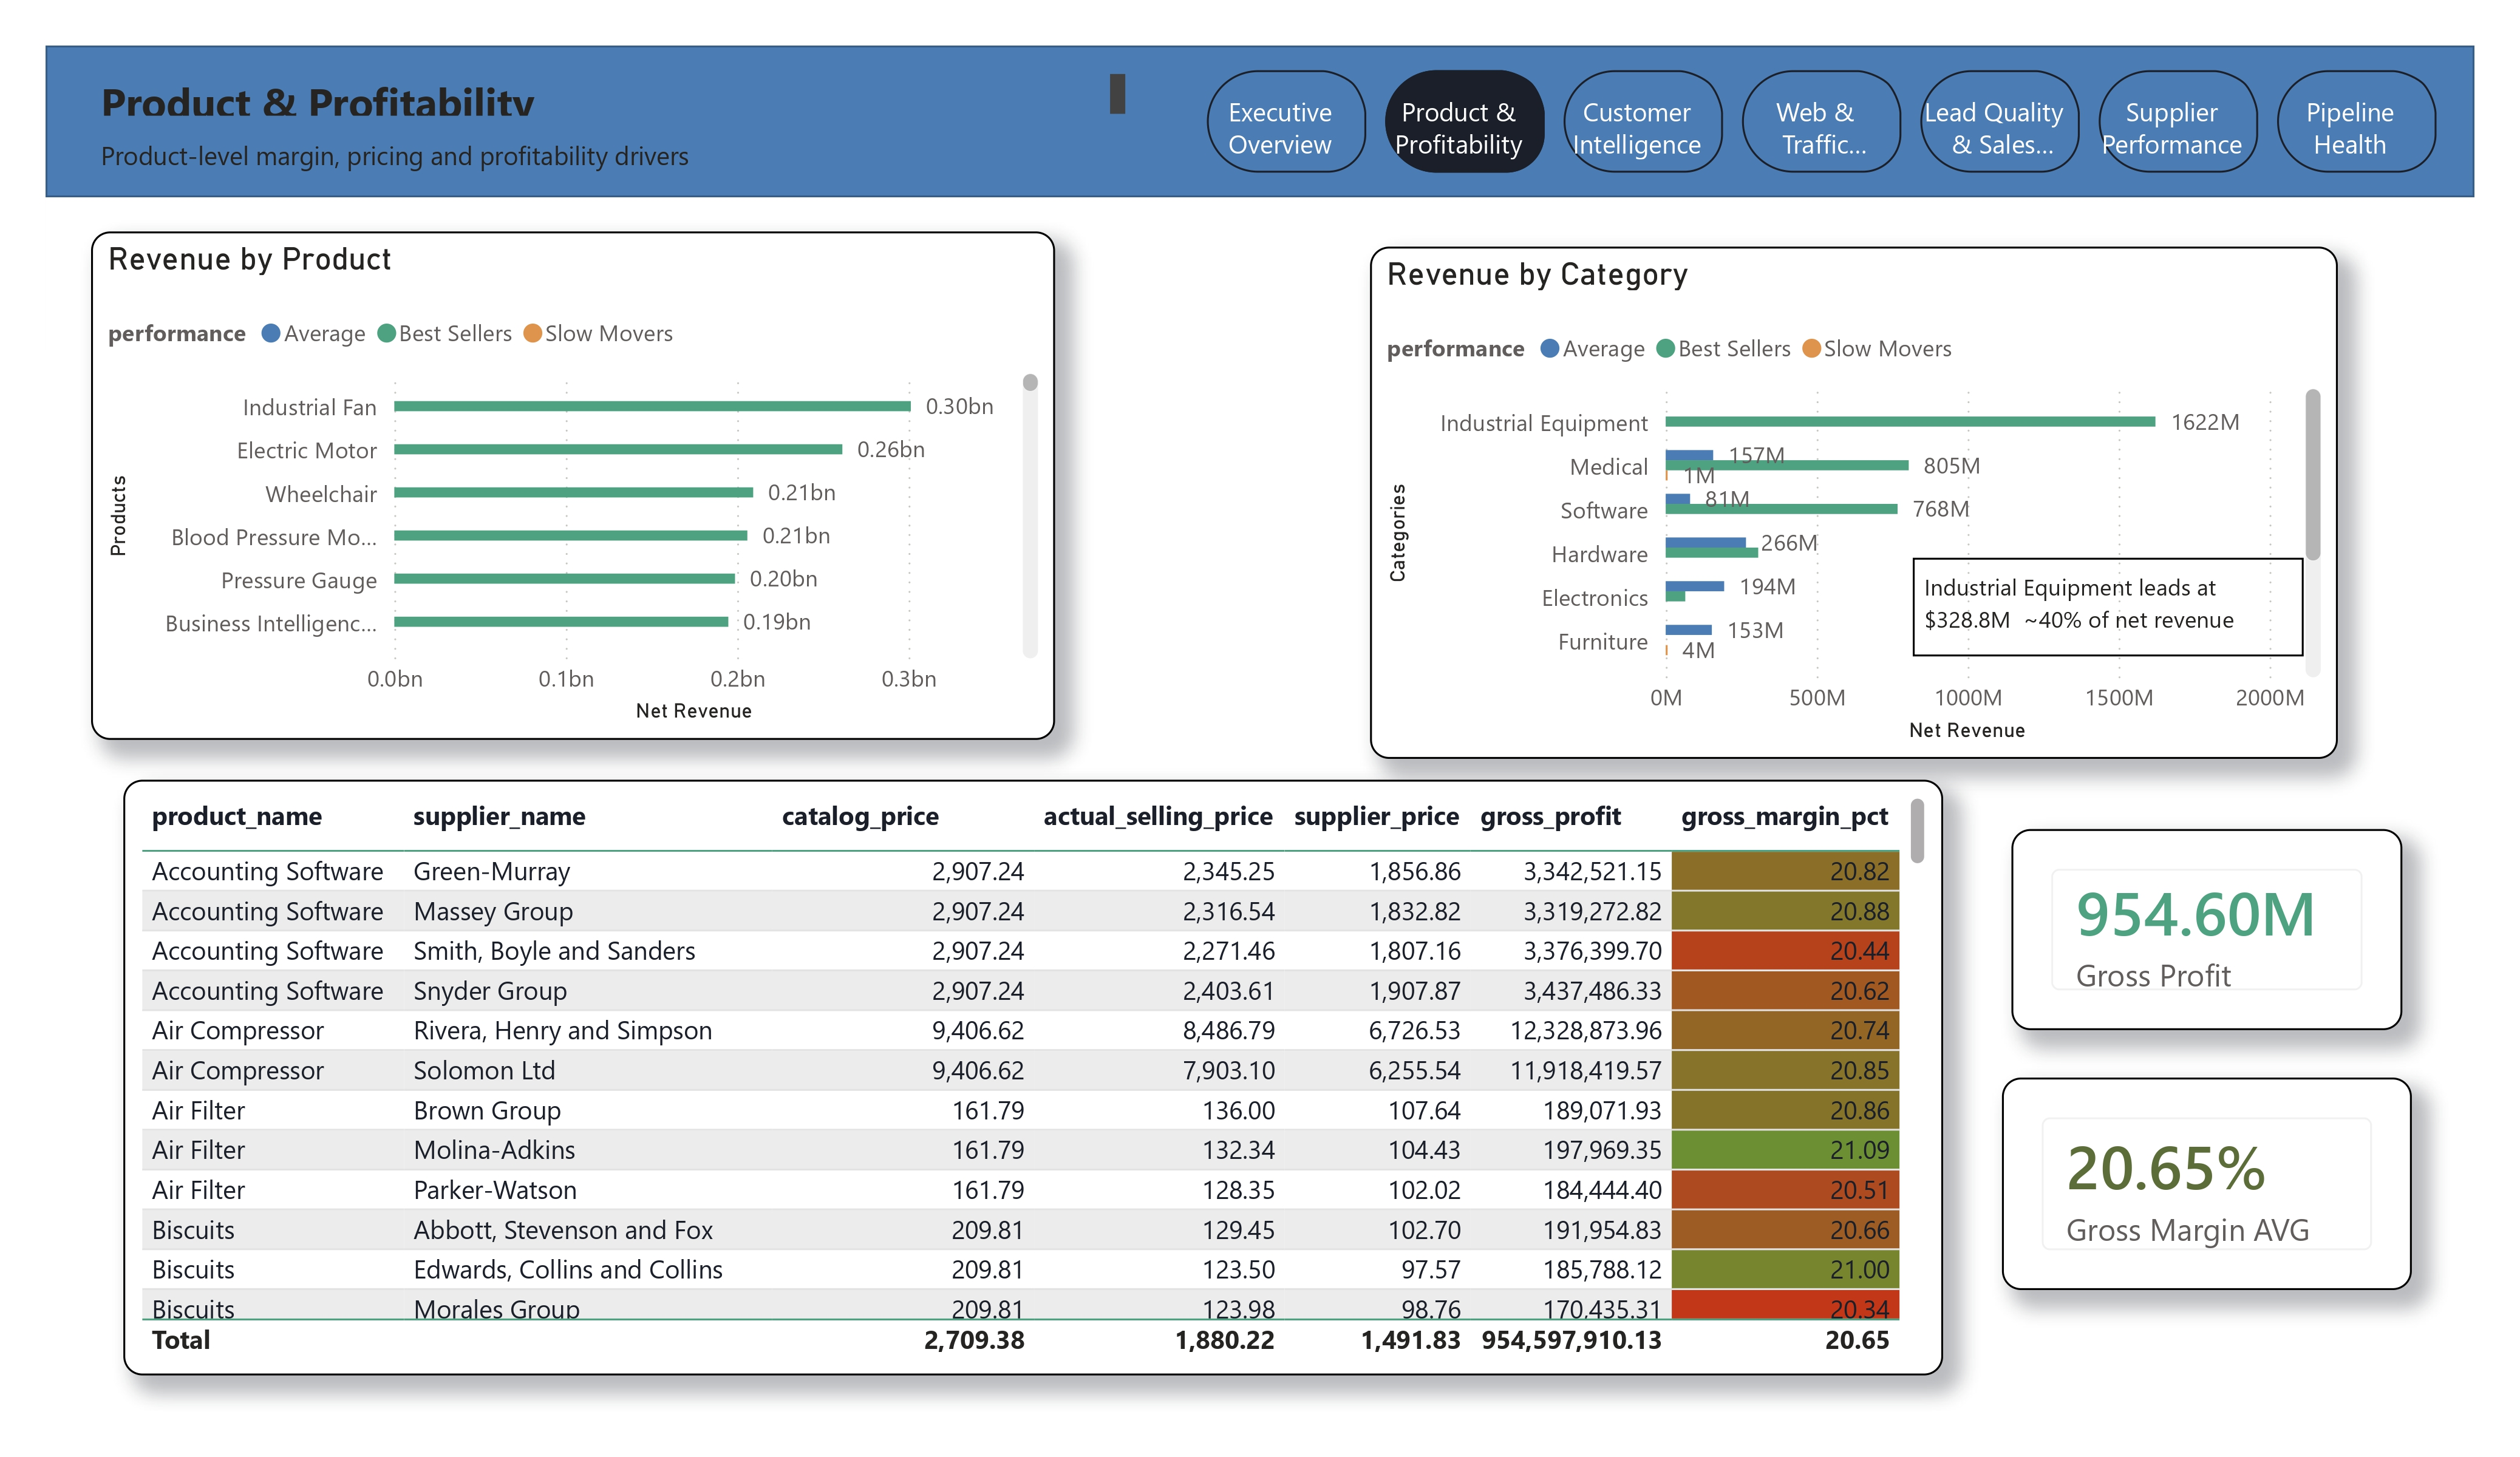

This screenshot's page, from the dashboard's own definition file:
{"tool":"powerbi","page":{"name":"Product & Profitability","canvas":[1280,720],"ordinal":1},"visuals":[{"type":"clusteredBarChart","title":"Revenue by Product","fields":{"Category":["marts vw_revenue_by_product.product_name"],"Series":["marts vw_revenue_by_product.performance"],"Y":["Sum(marts vw_revenue_by_product.net_revenue)"]},"box":[24.4,97.7,507.7,267.9],"z":0},{"type":"shape","box":[0,0,1280,80],"z":1000},{"type":"clusteredBarChart","title":"Revenue by Category","fields":{"Category":["marts vw_revenue_by_product.category_name"],"Series":["marts vw_revenue_by_product.performance"],"Y":["Sum(marts vw_revenue_by_product.net_revenue)"]},"box":[697.7,105.8,510.3,270.5],"z":2000},{"type":"tableEx","title":"Gross Margin Analysis - Product & Supplier","fields":{"Values":["marts vw_gross_margin_analysis.product_name","marts vw_gross_margin_analysis.supplier_name","Average(marts vw_gross_margin_analysis.catalog_price)","Average(marts vw_gross_margin_analysis.actual_selling_price)","Average(marts vw_gross_margin_analysis.supplier_price)","Sum(marts vw_gross_margin_analysis.gross_profit)","Average(marts vw_gross_margin_analysis.gross_margin_pct)"]},"box":[40.7,387.2,959.3,314],"z":3000},{"type":"cardVisual","fields":{"Data":["Sum(marts vw_gross_margin_analysis.gross_profit)"]},"box":[1036,412.8,205.8,105.8],"z":4000},{"type":"cardVisual","fields":{"Data":["Average(marts vw_gross_margin_analysis.gross_margin_pct)"]},"box":[1031.4,544.2,215.1,111.6],"z":5000},{"type":"textbox","box":[24,10,550,32],"z":6000},{"type":"textbox","box":[24.4,44.2,550,36],"z":7000},{"type":"pageNavigator","box":[611.6,12.8,648.8,54.7],"z":8000},{"type":"textbox","box":[983.7,269.8,205.8,52.3],"z":13000}]}

Visuals, with their boxes in screenshot pixels (x1, y1, x2, y2):
"Revenue by Product" clusteredBarChart: [111,222,1062,724]
shape: [66,39,2463,189]
"Revenue by Category" clusteredBarChart: [1372,237,2328,744]
"Gross Margin Analysis - Product & Supplier" tableEx: [142,764,1938,1352]
cardVisual - Sum(marts vw_gross_margin_analysis.gross_profit): [2006,812,2391,1010]
cardVisual - Average(marts vw_gross_margin_analysis.gross_margin_pct): [1997,1058,2400,1267]
textbox: [111,58,1140,118]
textbox: [111,122,1142,189]
pageNavigator: [1211,63,2426,166]
textbox: [1908,545,2294,642]
